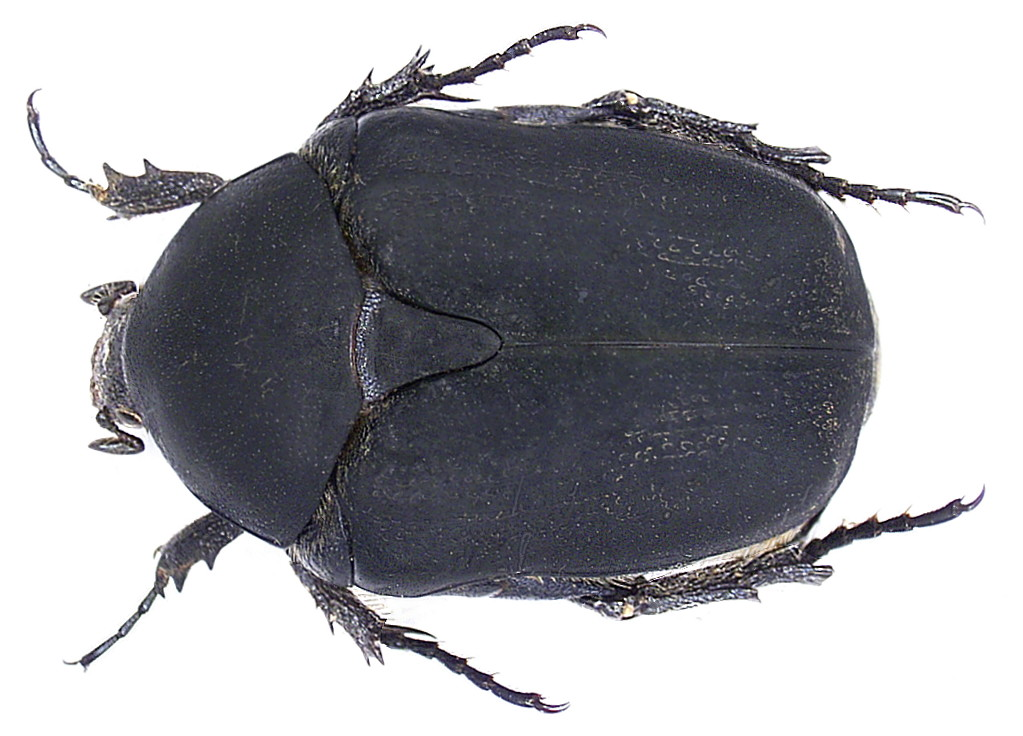Protaetia_afflicta: (8, 18, 998, 729)
